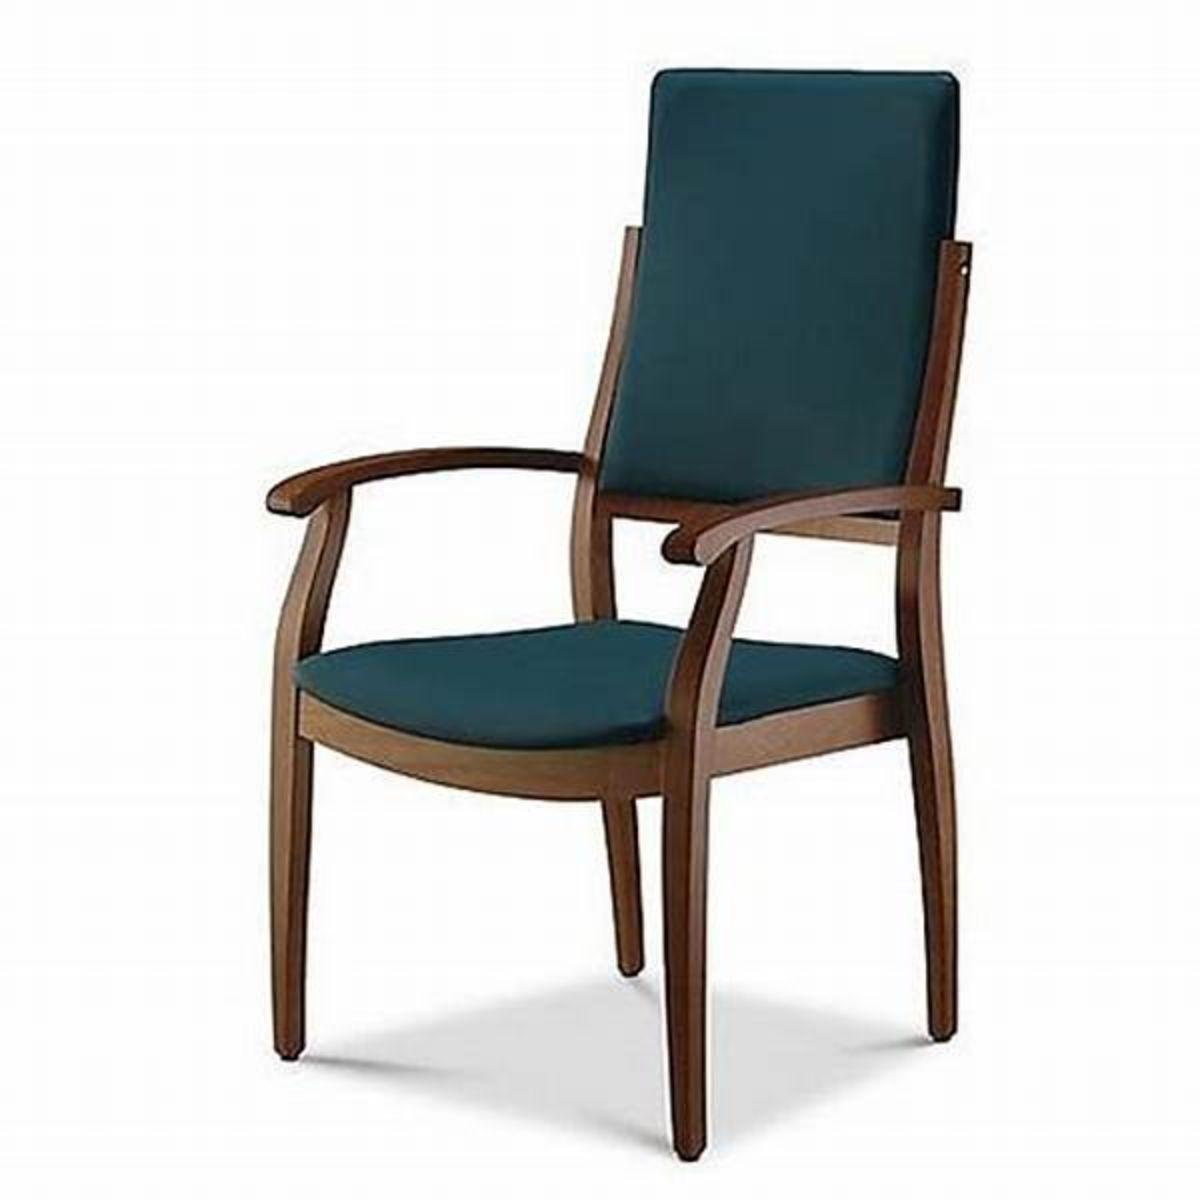Chair: (244, 64, 971, 1159)
